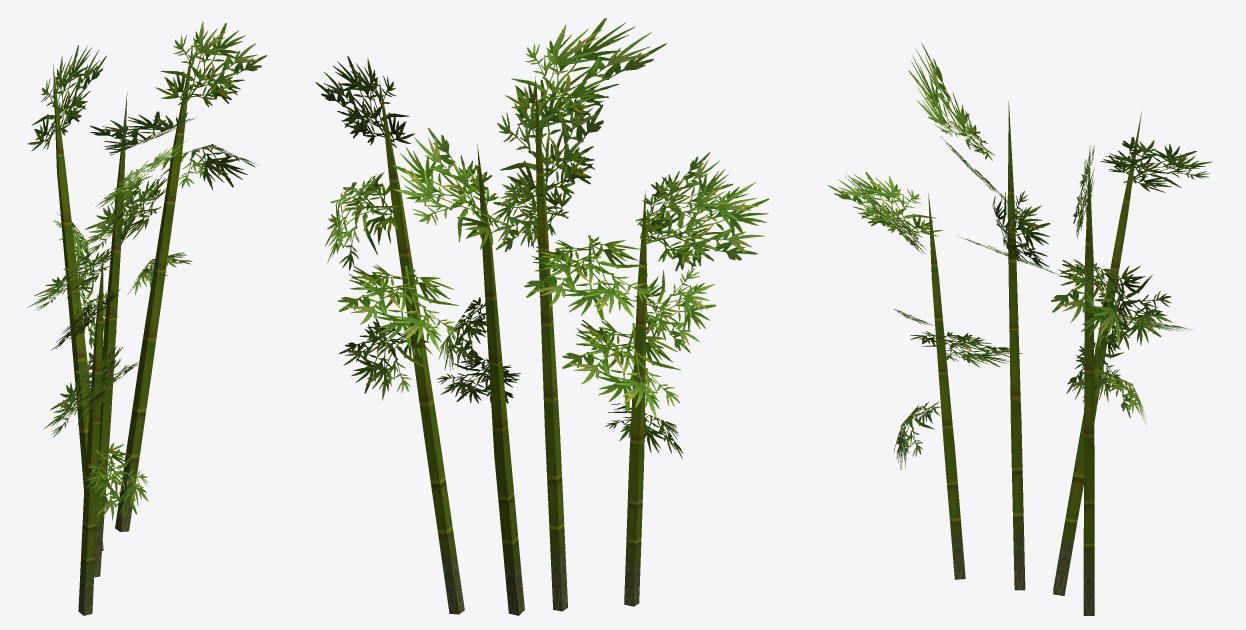
Rendered from szc_object_14a_zhuzi5.FBX.
The picture shows the model from 3 angles, left to right: view 1: azimuth 30°, elevation 25°; view 2: azimuth 150°, elevation 25°; view 3: azimuth 270°, elevation 25°; orthographic projection. The views are drawn at different scales.
Visible parts, largest first — view 1: szc_object_14a_zhuzi5_ye, szc_object_14a_zhuzi5_gan; view 2: szc_object_14a_zhuzi5_ye, szc_object_14a_zhuzi5_gan; view 3: szc_object_14a_zhuzi5_ye, szc_object_14a_zhuzi5_gan.
Boxes of the visible parts, box(x1,y1,x2,y2) form: szc_object_14a_zhuzi5_ye: box(27, 21, 266, 522); szc_object_14a_zhuzi5_gan: box(53, 43, 193, 615); szc_object_14a_zhuzi5_ye: box(315, 18, 769, 458); szc_object_14a_zhuzi5_gan: box(379, 76, 646, 615); szc_object_14a_zhuzi5_ye: box(828, 43, 1212, 469); szc_object_14a_zhuzi5_gan: box(928, 101, 1141, 615).
Bounding box in the file's own units: 106 × 158 × 108.
